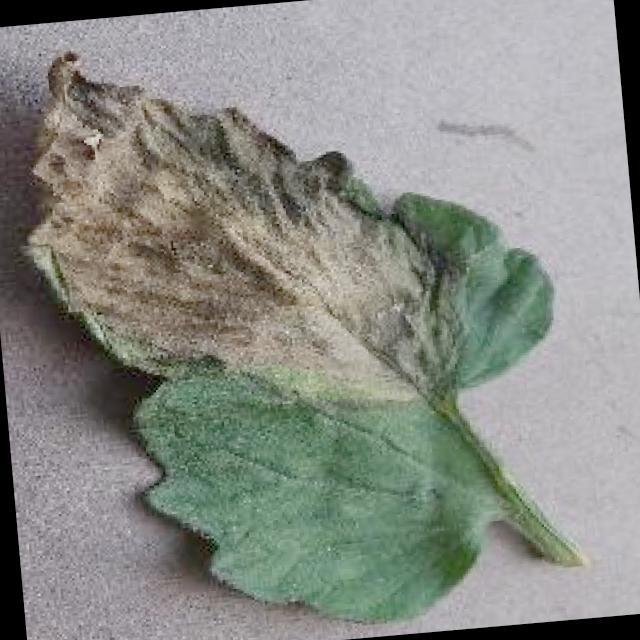Tomato late blight leaf: (9, 10, 585, 640)
